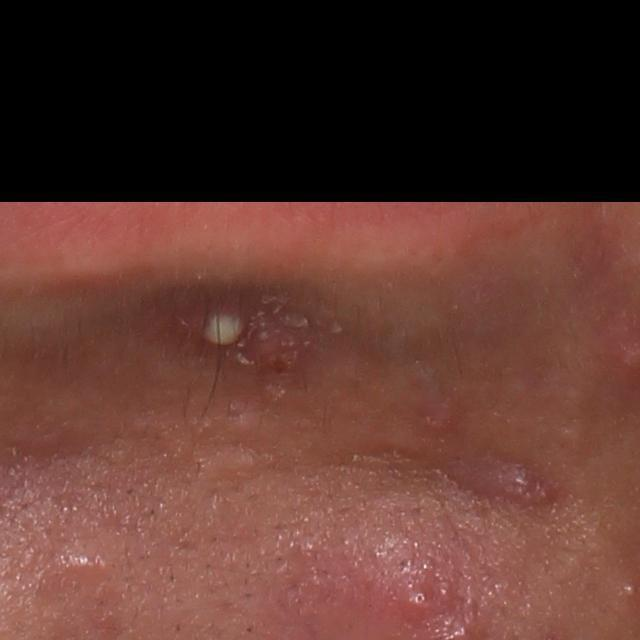papule: (478, 459, 558, 508), (58, 535, 115, 587), (394, 576, 439, 622), (418, 398, 460, 439)
pustule: (164, 286, 305, 383)
